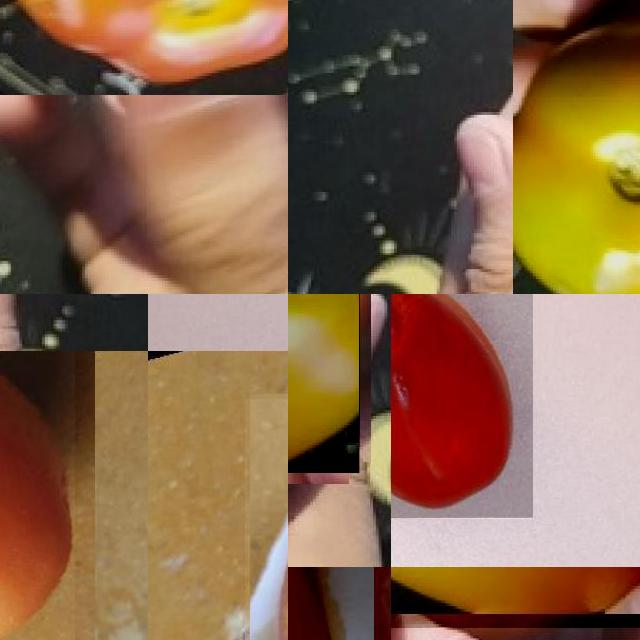Fresh Tomato: (0, 0, 288, 95), (0, 351, 74, 640)
Rotten Tomato: (513, 0, 640, 294), (391, 294, 532, 518), (391, 567, 640, 627), (244, 398, 288, 640)
